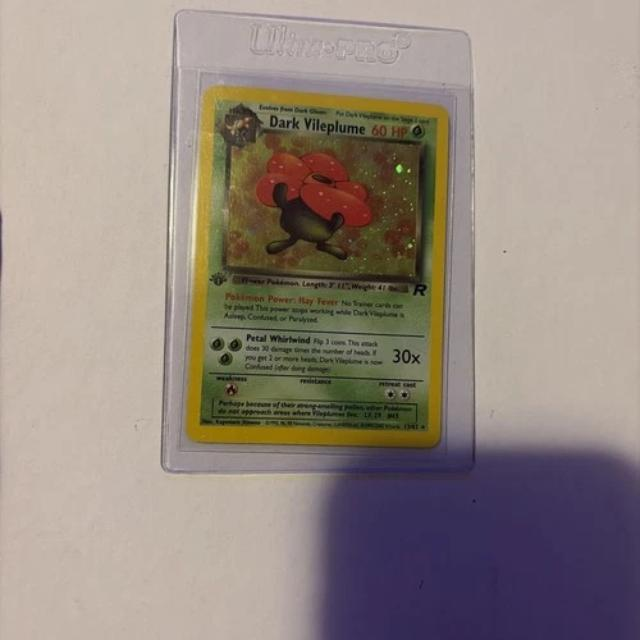Card: (181, 79, 454, 453)
Name: (263, 109, 370, 141)
